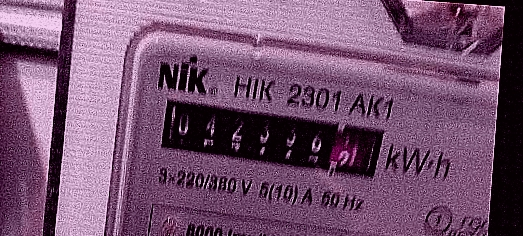0: (176, 107, 191, 137)
2: (228, 113, 248, 142)
3: (254, 115, 272, 145), (283, 118, 299, 147)
4: (202, 110, 220, 138)
6: (308, 126, 325, 154)
screen: (148, 89, 394, 187)
